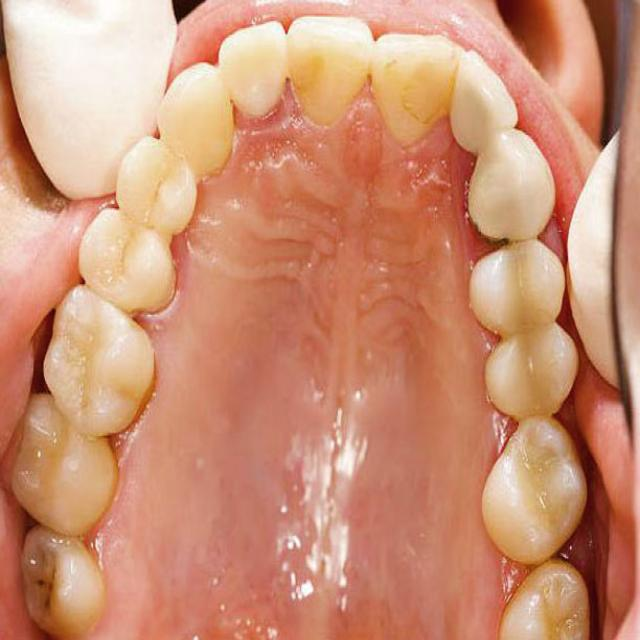caries: (28, 548, 68, 623)
